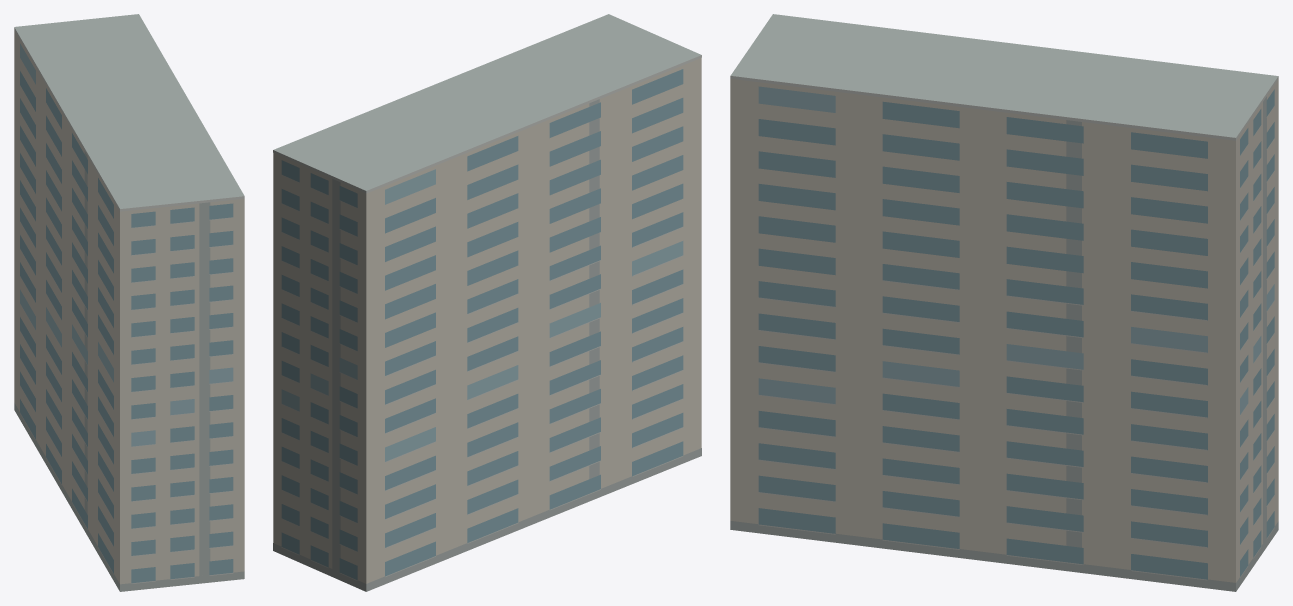
File: residential-8370af5d-4b04-405e-a144-36bb77a045e8.glb
3 views of the same model, side by side, from view 1: azimuth 30°, elevation 25°; view 2: azimuth 150°, elevation 25°; view 3: azimuth 270°, elevation 25° (orthographic). The views are drawn at different scales.
Visible parts, largest first — view 1: residential-8370af5d-4b04-405e-a144-36bb77a045e8.tmp; view 2: residential-8370af5d-4b04-405e-a144-36bb77a045e8.tmp; view 3: residential-8370af5d-4b04-405e-a144-36bb77a045e8.tmp.
Boxes of the visible parts, <box> form: residential-8370af5d-4b04-405e-a144-36bb77a045e8.tmp: <box>14,14,244,591</box>; residential-8370af5d-4b04-405e-a144-36bb77a045e8.tmp: <box>273,14,701,591</box>; residential-8370af5d-4b04-405e-a144-36bb77a045e8.tmp: <box>730,14,1278,591</box>.
Size of the model in its own units: 21.66 by 37 by 40.49.
